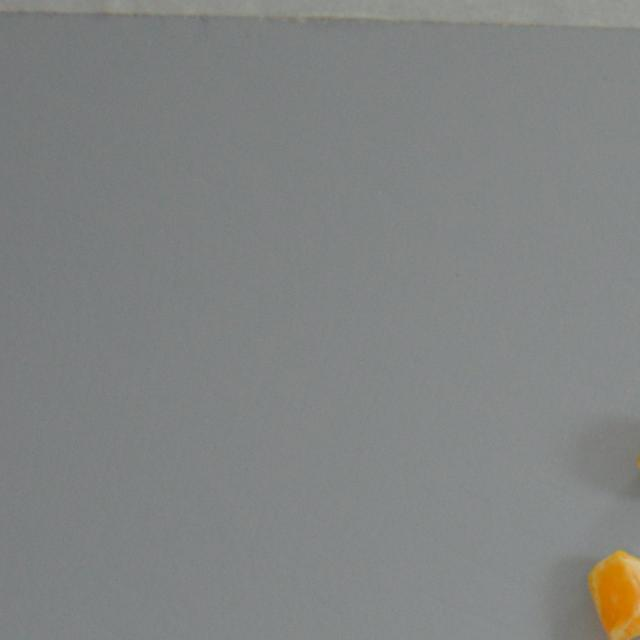pelicula: (580, 543, 640, 640), (628, 398, 640, 510)
